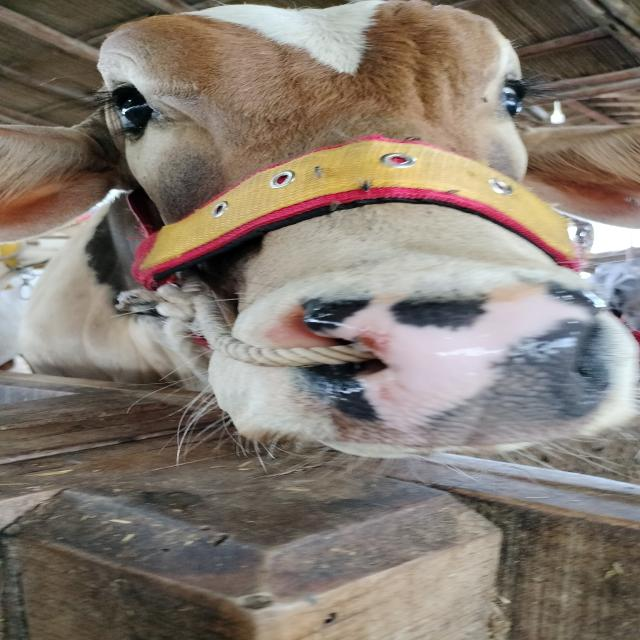muzzles: (254, 278, 640, 452)
